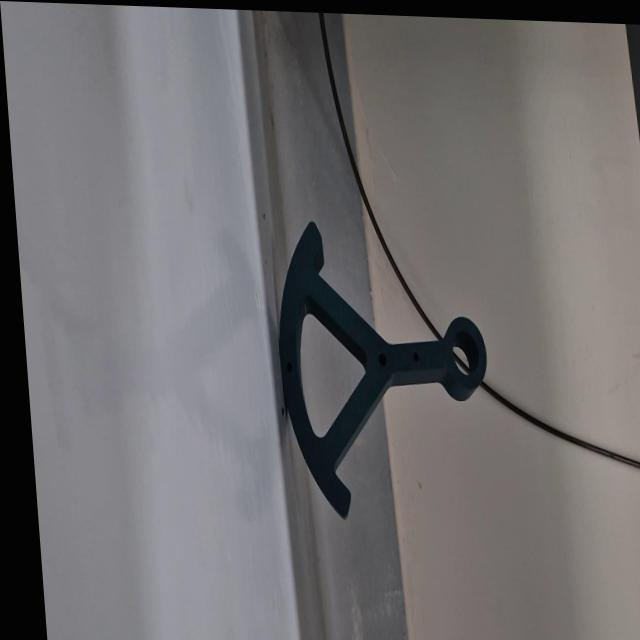haptic: (269, 217, 500, 526)
